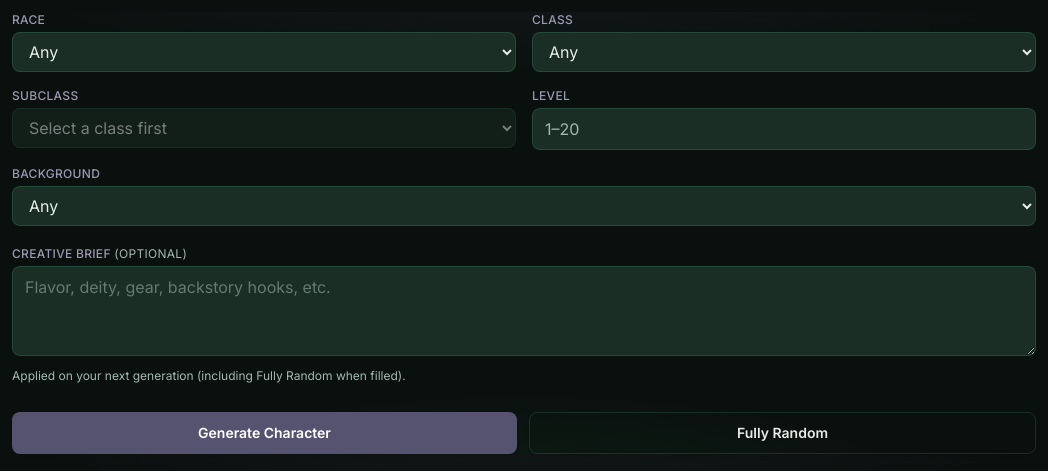
Test: CharacterForm › conditional dropdowns › enables Subclass after a class is selected
The image size is (1048, 471).
Select "Fighter" in the 2nd dropdown at (784, 52), box [532,32,1036,72]
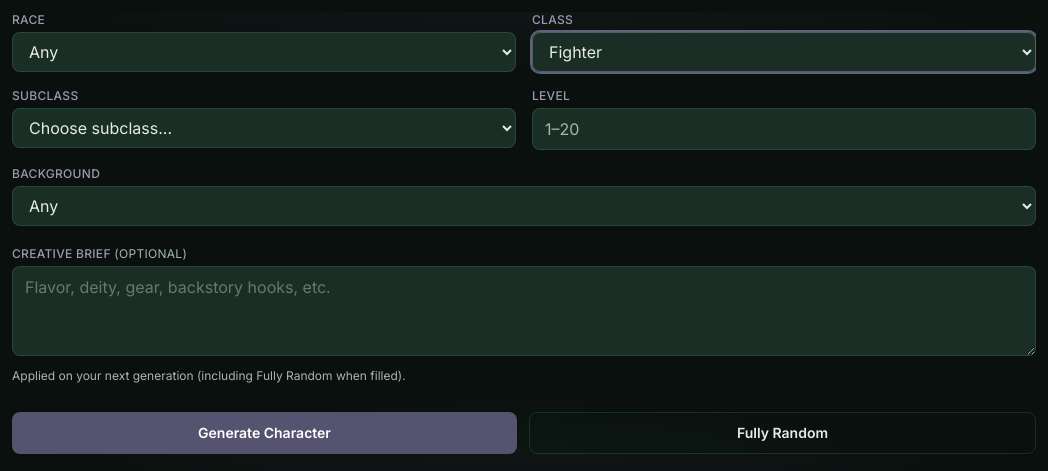
Result: the dropdown below "Subclass" is enabled at [12,108,516,148]
